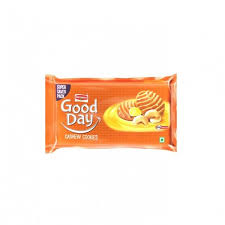gooday-medium: (42, 73, 179, 150)
